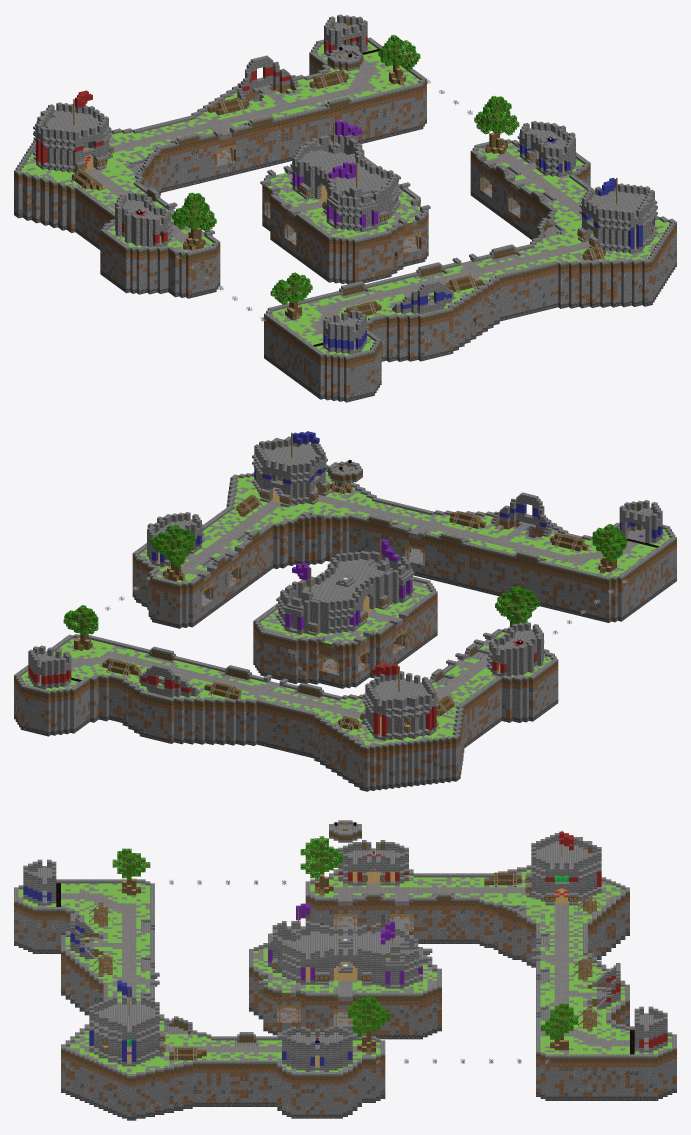
File: minecraft.obj
3 views of the same model, one above another, from view 1: azimuth 30°, elevation 25°; view 2: azimuth 150°, elevation 25°; view 3: azimuth 270°, elevation 25° (orthographic).
Size of the model in its own units: 109 by 44.52 by 141.
